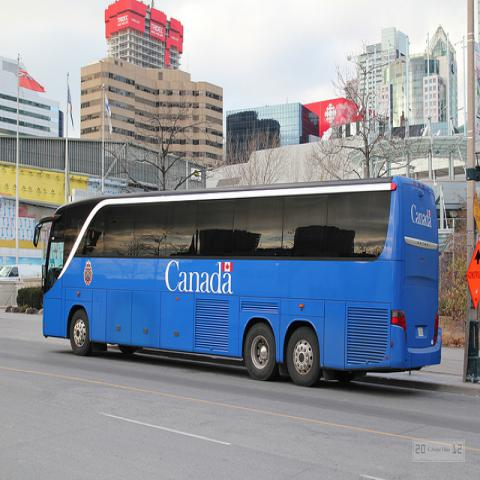bus: (32, 173, 444, 386)
car: (0, 264, 41, 280)
